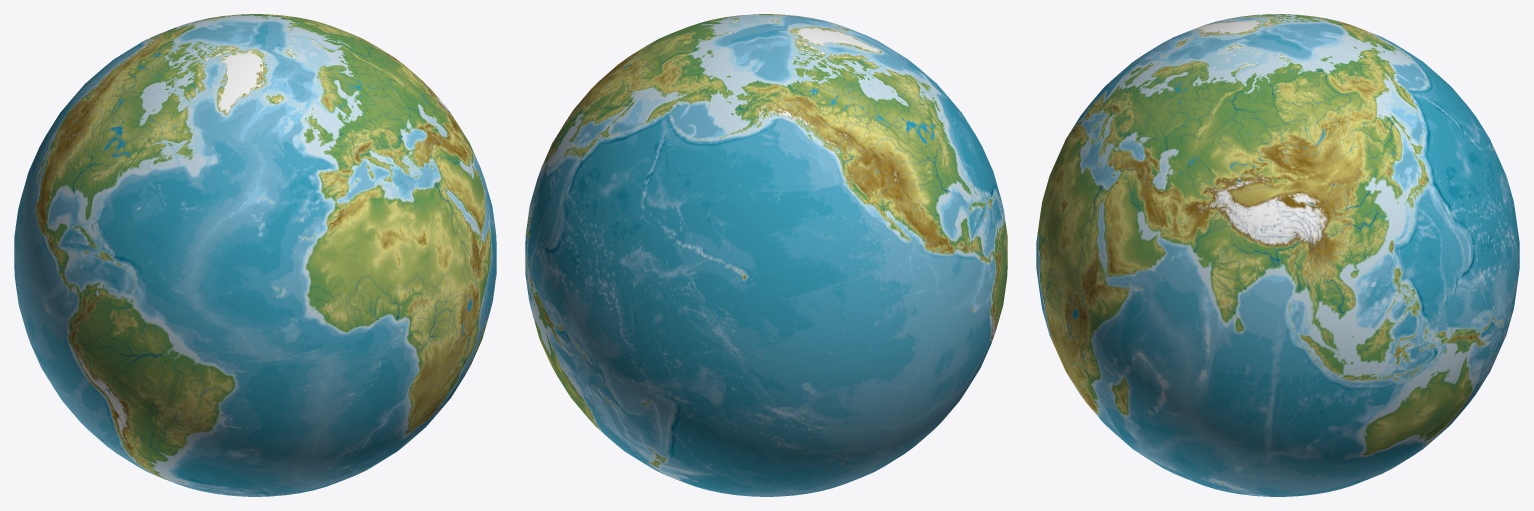
Rendered from globe.glb.
3 renders of one model, left to right at view 1: azimuth 30°, elevation 25°; view 2: azimuth 150°, elevation 25°; view 3: azimuth 270°, elevation 25°, orthographic.
Visible parts, largest first — view 1: Sphere001; view 2: Sphere001; view 3: Sphere001.
Part boxes in pixels (x1,y1,x2,y2): Sphere001: (14, 14, 496, 496); Sphere001: (525, 14, 1007, 496); Sphere001: (1036, 14, 1519, 496).
Bounding box in the file's own units: 1.99 × 2 × 2.
Materials: 1 (1 with a texture image).
